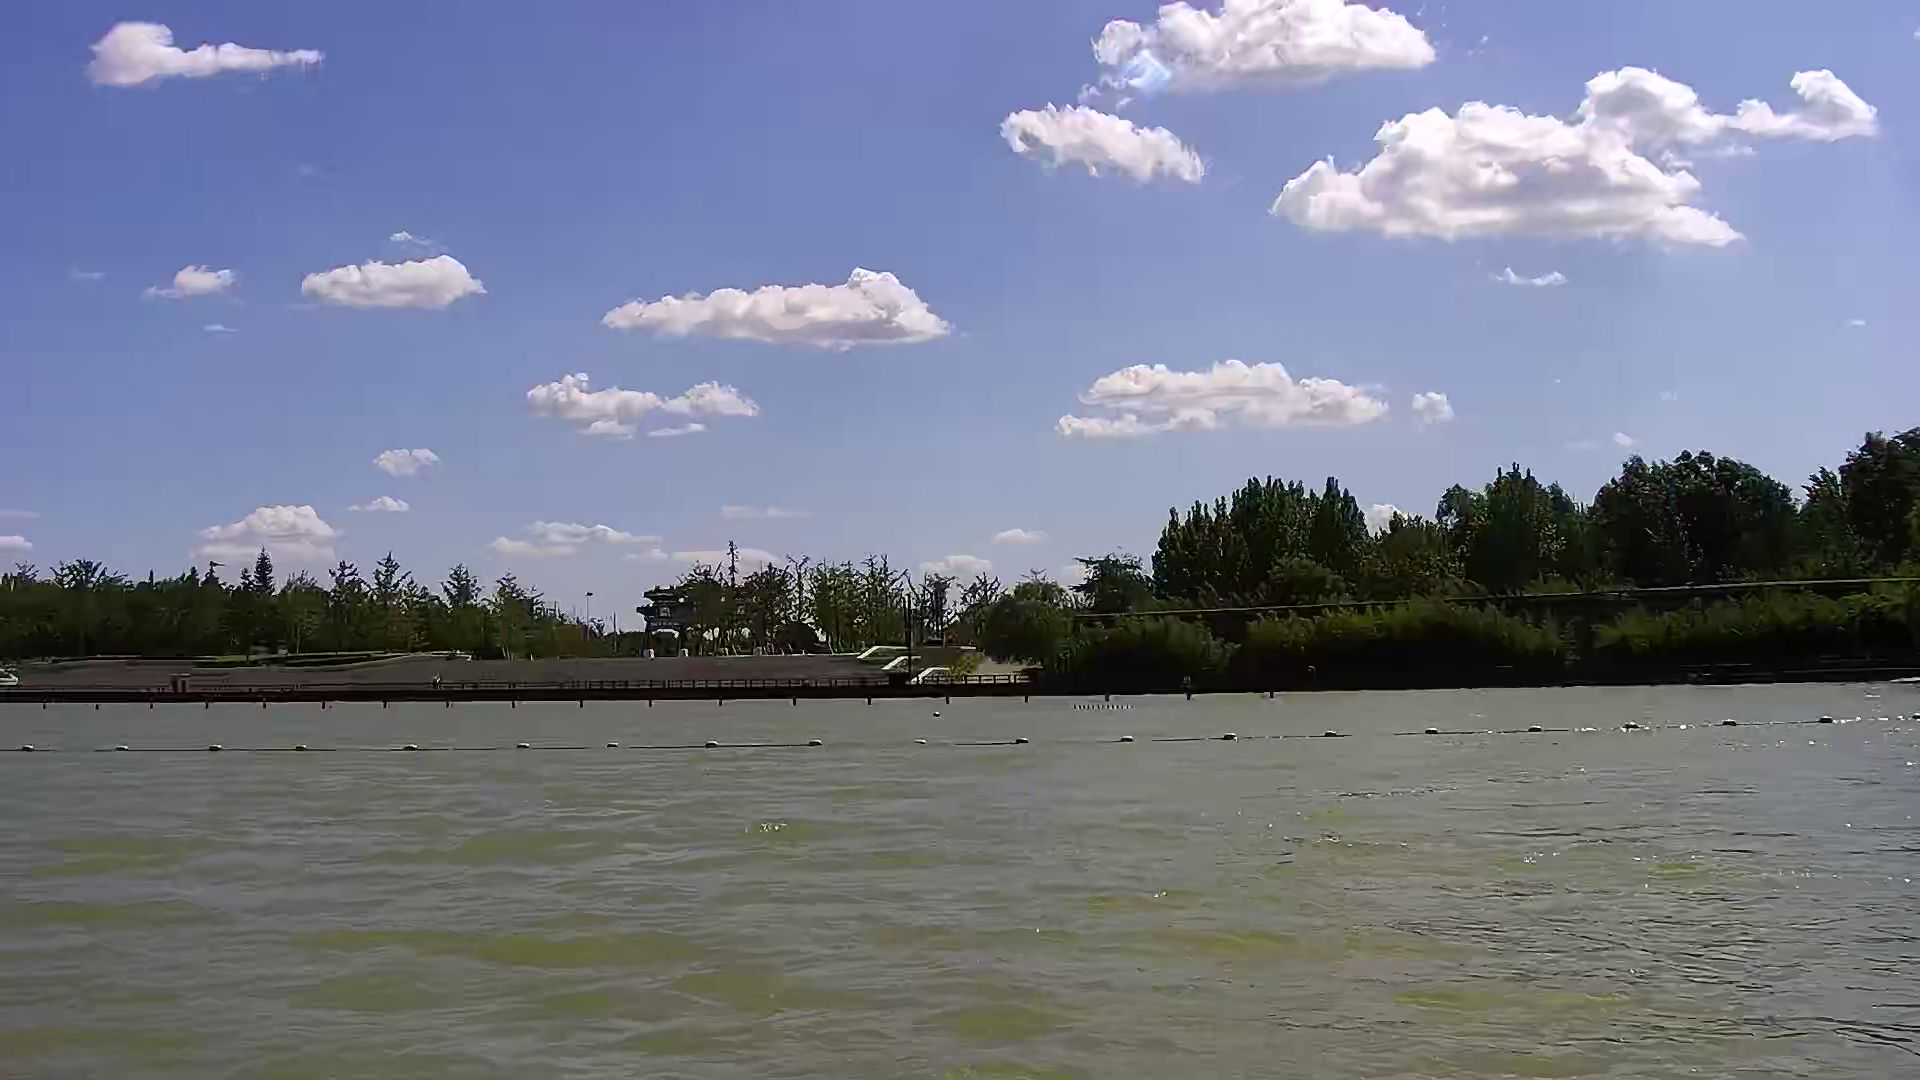ball: (1813, 709, 1844, 732), (1615, 713, 1642, 737), (396, 735, 421, 758), (1218, 725, 1244, 749), (1004, 731, 1034, 749), (1720, 708, 1742, 732), (200, 737, 228, 756)
harbor: (1, 651, 1043, 702)
